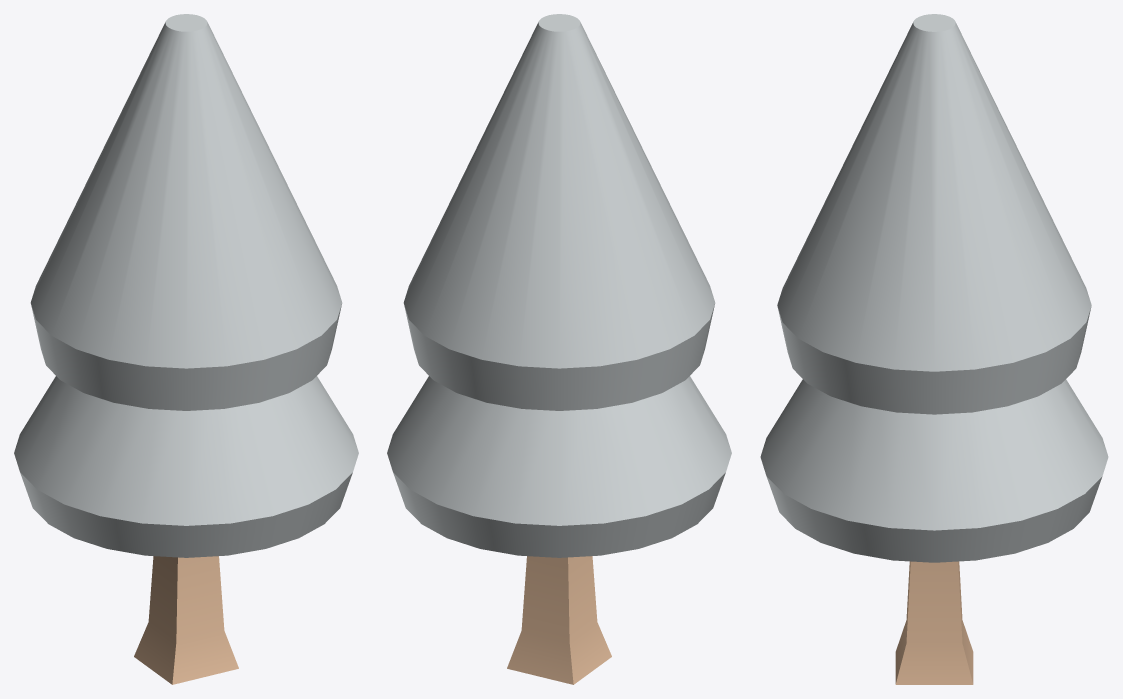
3 views of the same model, side by side, from view 1: azimuth 30°, elevation 25°; view 2: azimuth 150°, elevation 25°; view 3: azimuth 270°, elevation 25° (orthographic).
Parts seen in each view (by area): view 1: treePineSnow; view 2: treePineSnow; view 3: treePineSnow.
Part boxes in pixels (bbox=[...]): treePineSnow: bbox=[14, 14, 358, 684]; treePineSnow: bbox=[387, 14, 731, 684]; treePineSnow: bbox=[760, 14, 1108, 684].
Bounding box in the file's own units: 0.9485 × 1.94 × 0.9485.
